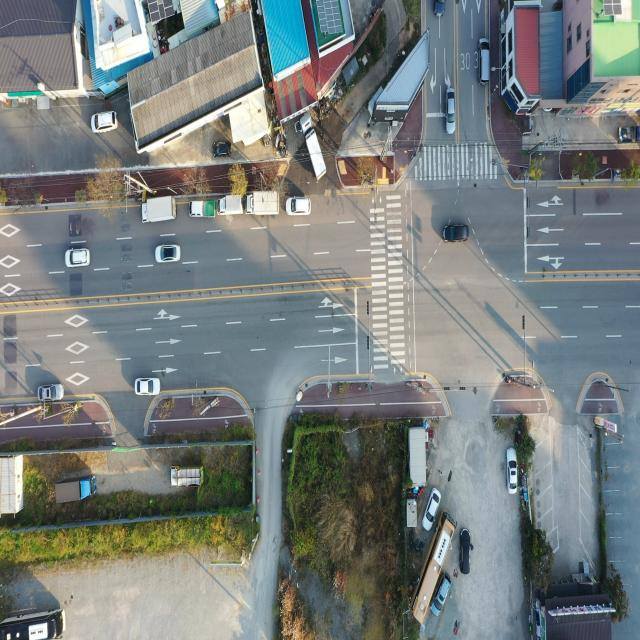car: (431, 572, 451, 618), (422, 485, 440, 535), (457, 527, 470, 576), (92, 110, 119, 133), (505, 446, 518, 493), (478, 36, 490, 86), (444, 222, 469, 243), (157, 244, 181, 264), (286, 196, 310, 216), (134, 379, 160, 397), (38, 384, 64, 402), (446, 89, 456, 135), (66, 248, 90, 267), (212, 141, 232, 157), (434, 0, 442, 17)
large_bus: (410, 516, 458, 629), (2, 598, 65, 640)
medium_truck: (299, 118, 327, 182), (55, 470, 96, 504), (142, 196, 177, 224), (245, 190, 281, 213)
small_truck: (169, 464, 204, 489), (216, 192, 243, 217), (188, 202, 215, 220)
